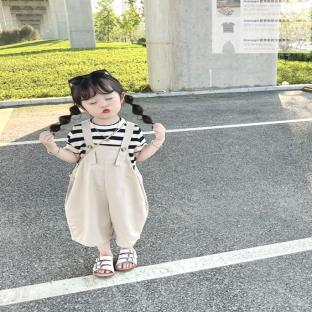Human: (39, 69, 165, 277)
